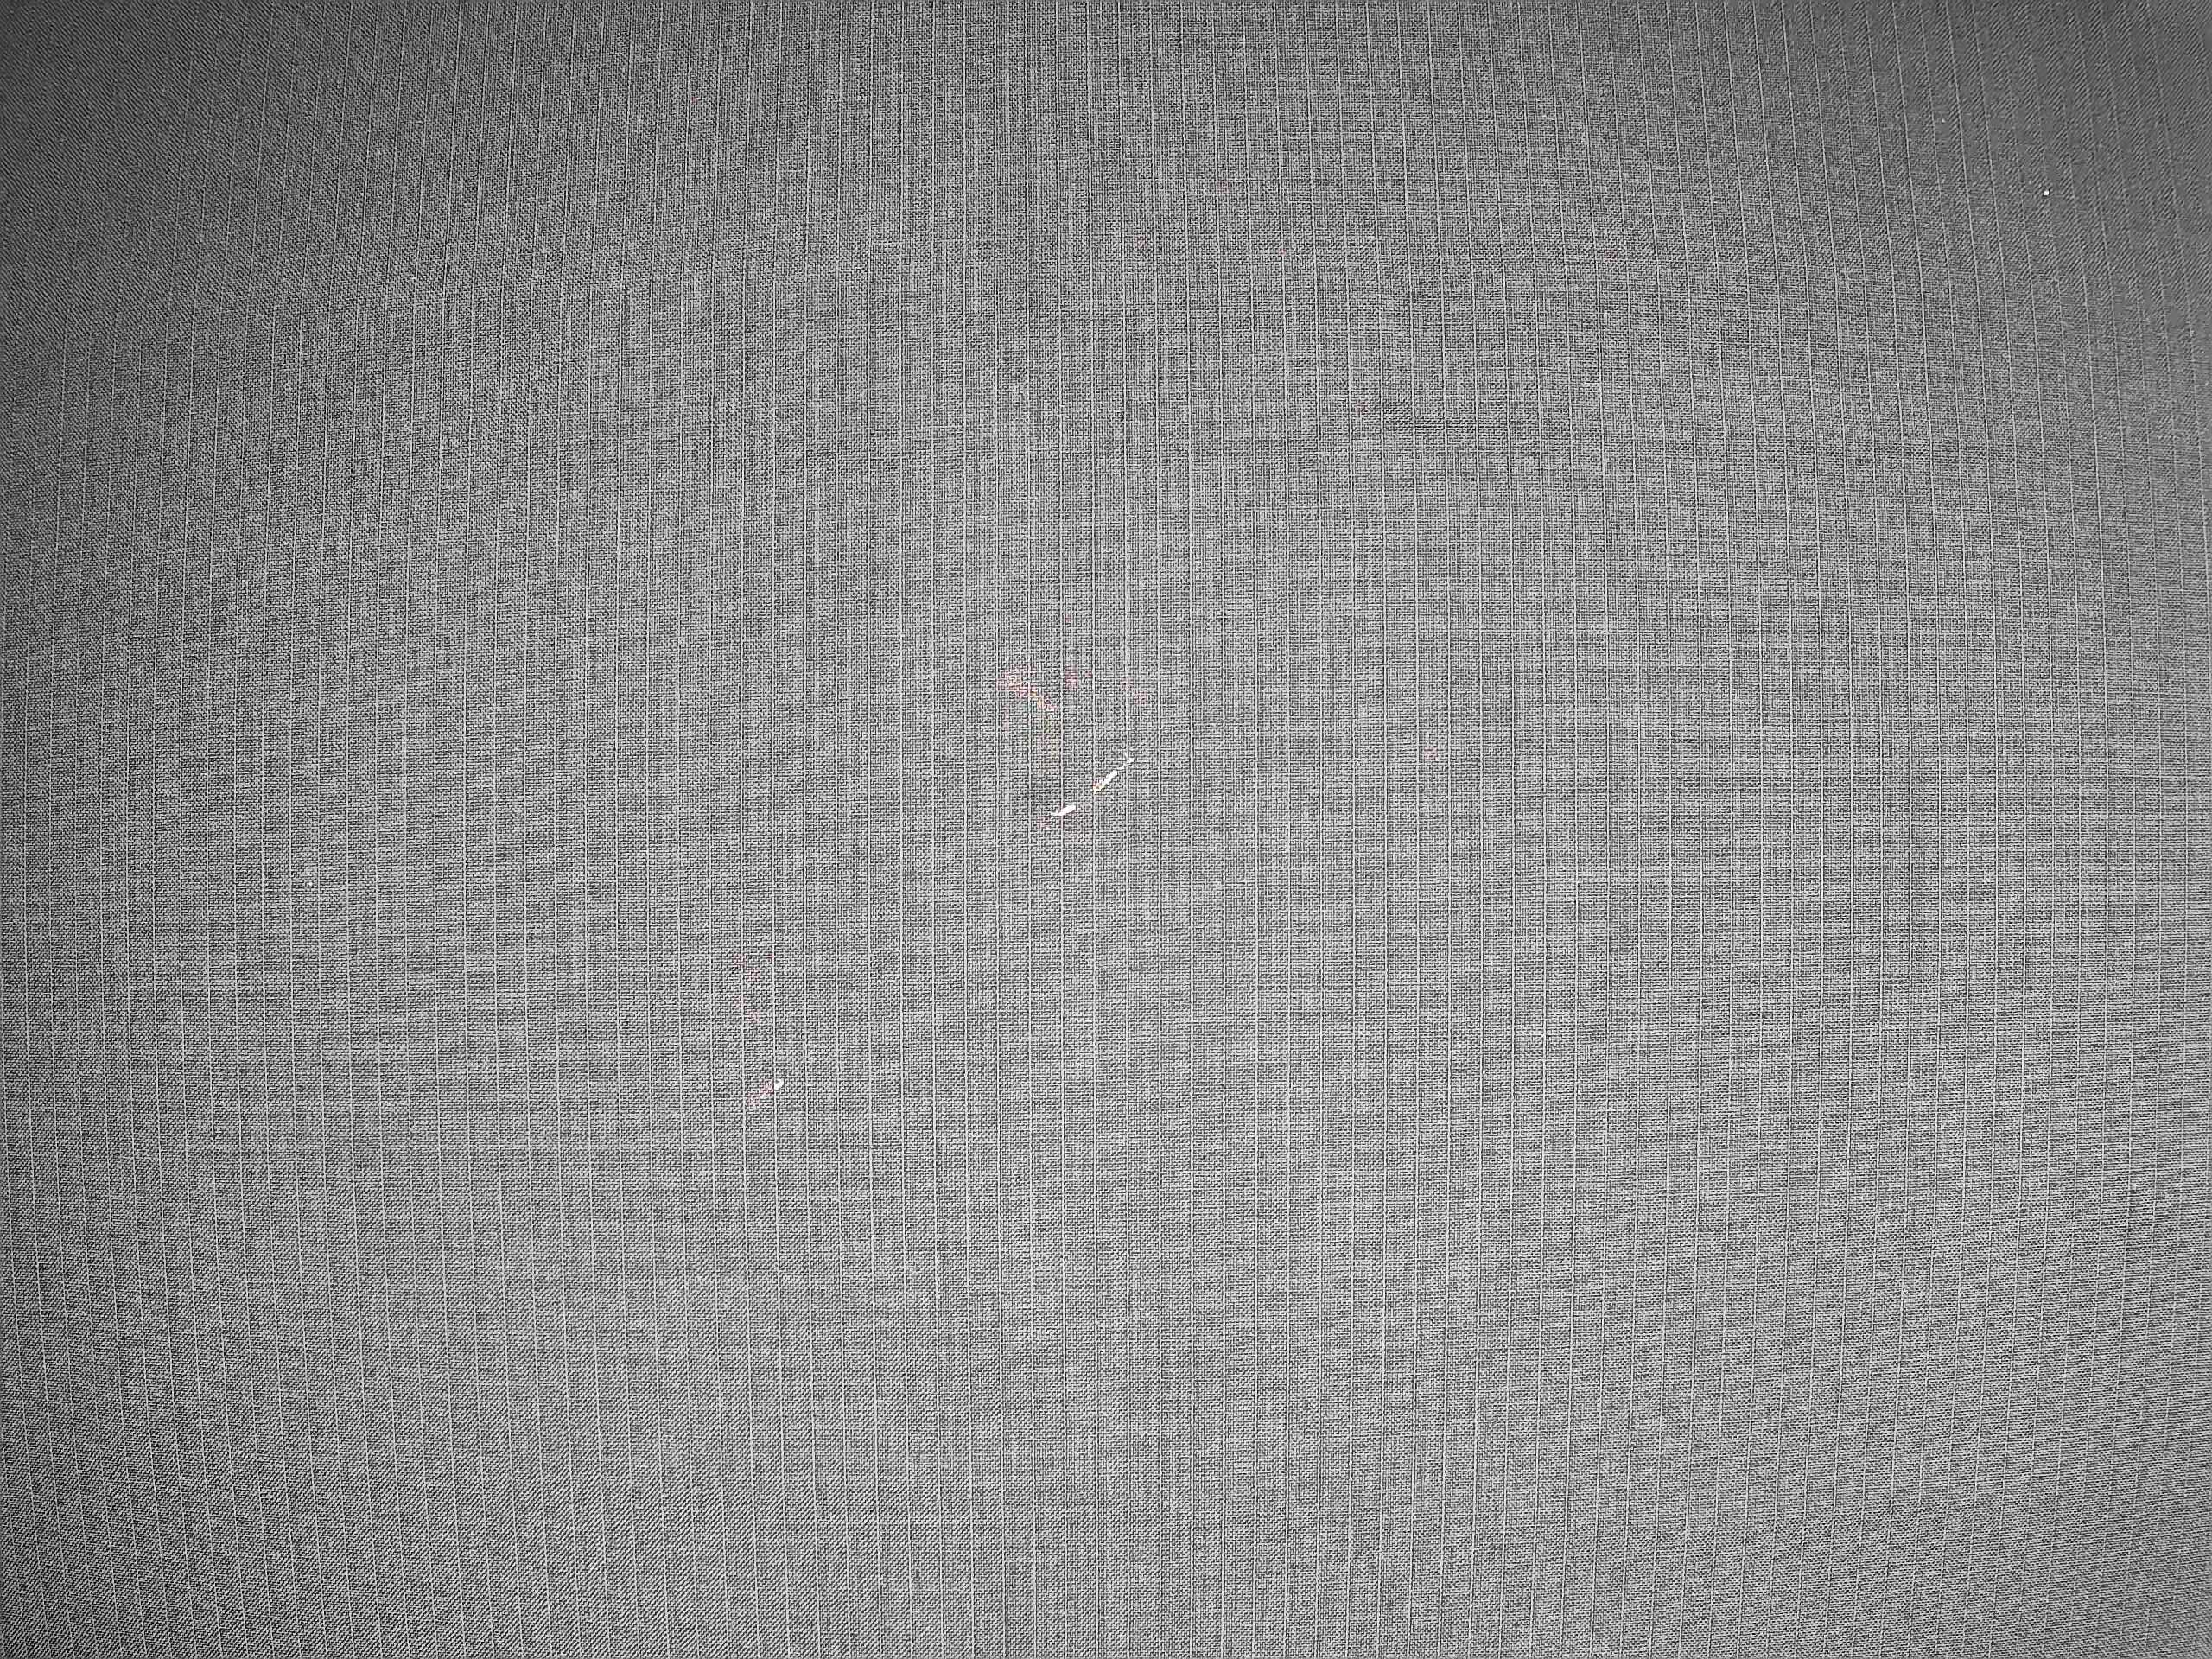others: (1001, 741, 1162, 857), (1355, 371, 1486, 460), (721, 1053, 801, 1131)
